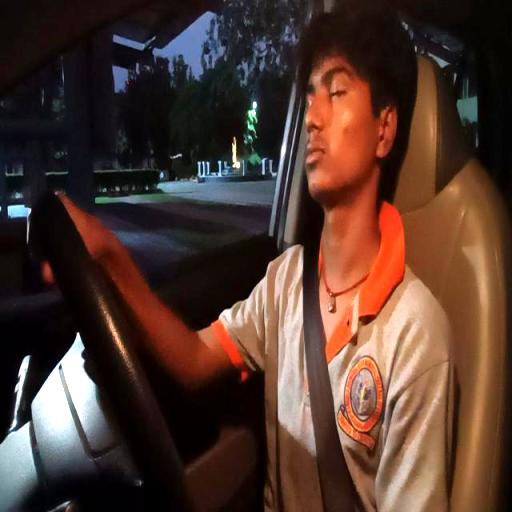sleepy: (296, 2, 412, 215)
